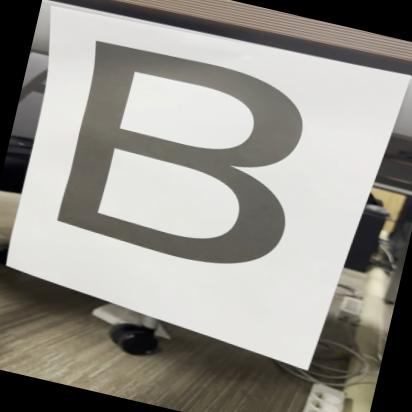seat: (24, 19, 338, 298)
